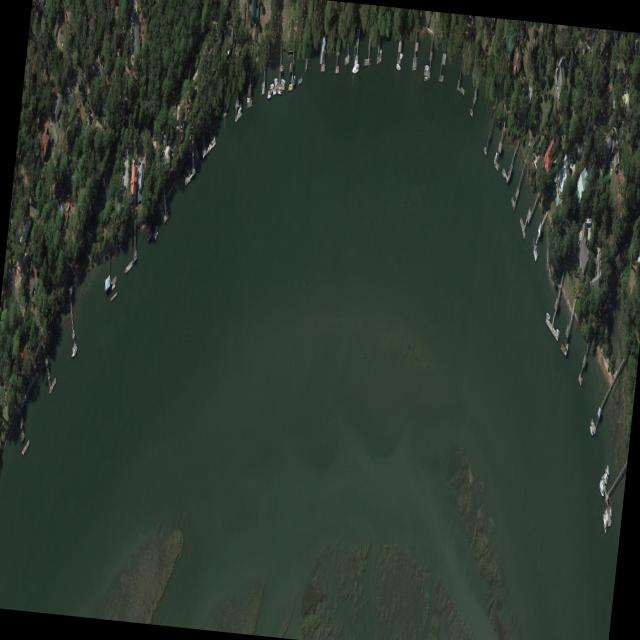ship: (351, 60, 359, 74), (599, 476, 604, 498), (588, 422, 594, 436), (71, 345, 77, 358), (604, 465, 608, 482), (603, 470, 607, 486), (395, 61, 401, 71), (564, 340, 568, 355), (237, 104, 241, 115), (609, 503, 612, 517), (606, 461, 609, 475), (424, 62, 429, 70), (546, 309, 550, 319), (555, 325, 559, 335), (398, 51, 403, 58), (49, 115, 52, 126), (273, 75, 277, 83), (111, 282, 115, 289), (246, 95, 250, 102), (270, 81, 274, 87), (293, 73, 295, 85), (424, 75, 428, 81)
